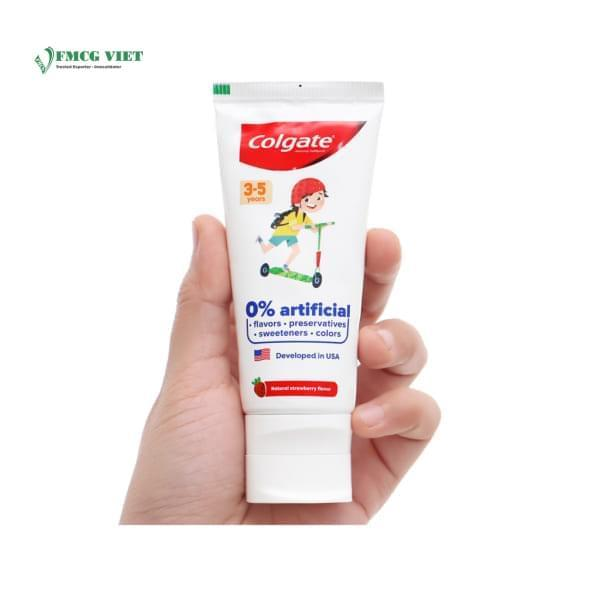toothpaste: (191, 58, 384, 517)
